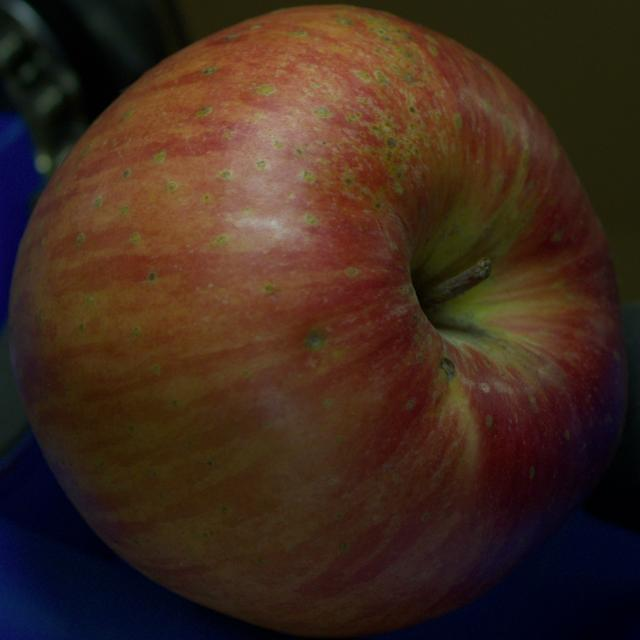apple: (8, 6, 627, 637)
pest: (306, 329, 326, 350), (439, 358, 455, 380)
